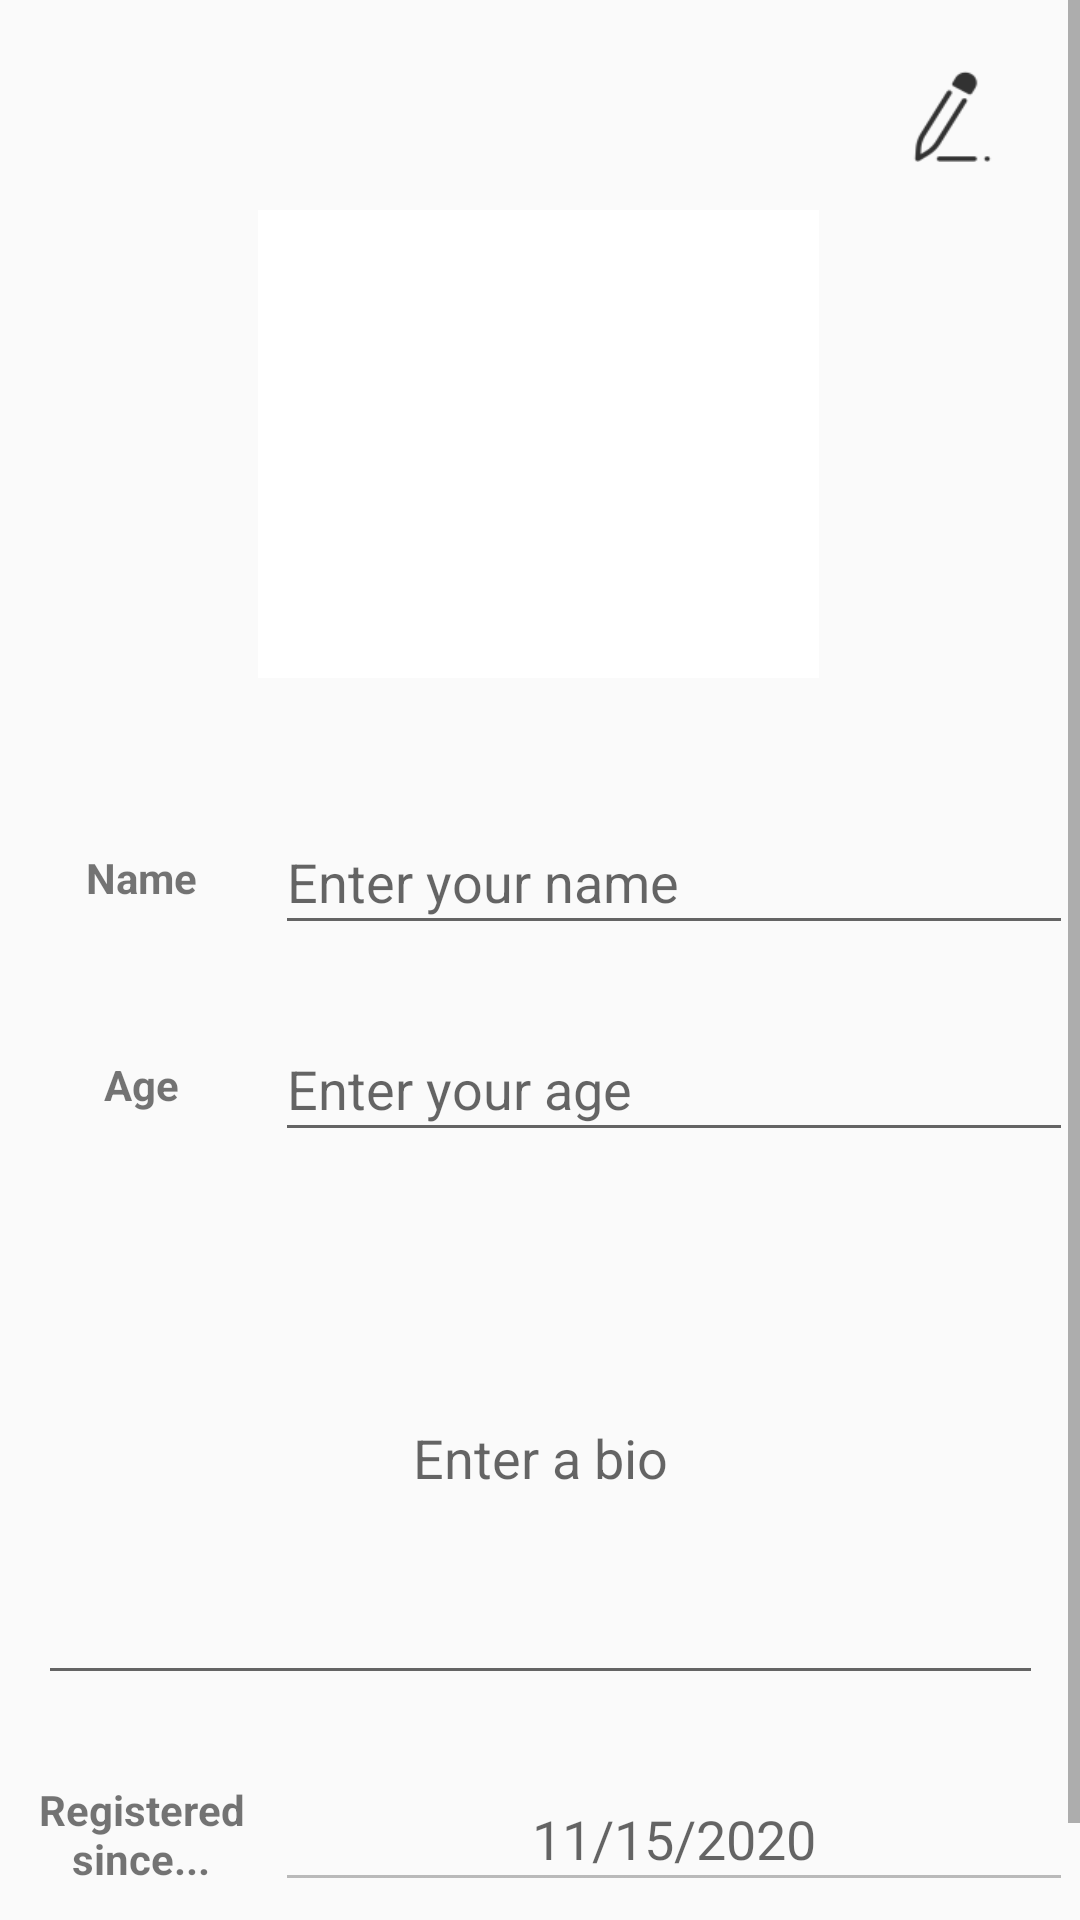

Icon bounding boxes for this 1080px x 1920px phone screenshot, format [left=x1, top=y1, right=x2, bottom=y2]:
edit: [left=914, top=72, right=991, bottom=162]
